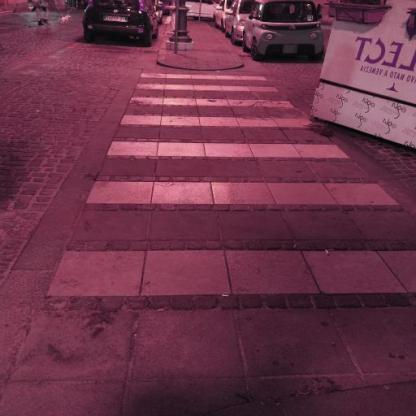crosswalk: (80, 140, 402, 214), (110, 95, 314, 132)
